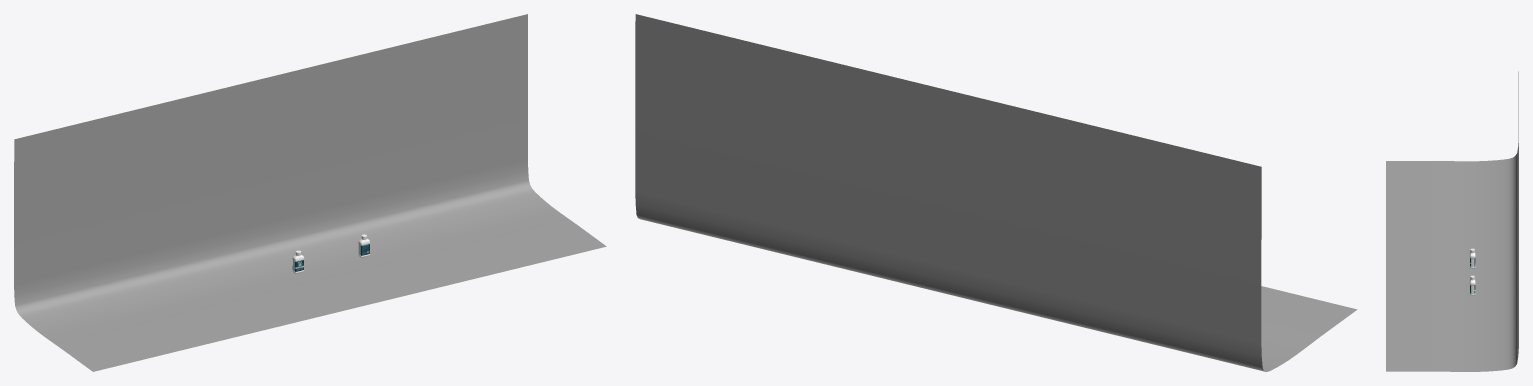
File: 100mL_Bottle_FRONTandBACK_wBG.fbx
3 views of the same model, side by side, from view 1: azimuth 30°, elevation 25°; view 2: azimuth 150°, elevation 25°; view 3: azimuth 270°, elevation 25° (orthographic). The views are drawn at different scales.
Visible parts, largest first — view 1: FLOOR_BG; view 2: FLOOR_BG; view 3: FLOOR_BG.
Boxes of the visible parts, x1,y1,x2,y2 form: FLOOR_BG: [14, 14, 606, 371]; FLOOR_BG: [635, 14, 1357, 371]; FLOOR_BG: [1386, 71, 1518, 371].
Size of the model in its own units: 2776 by 905 by 740.
